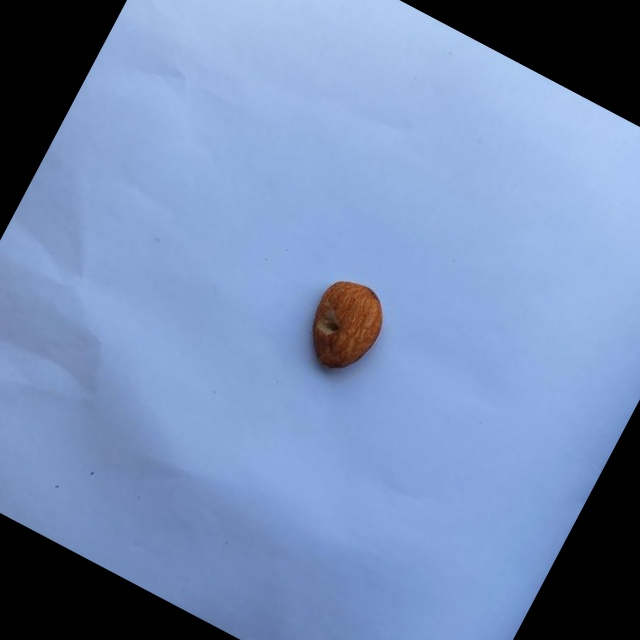grade3: (287, 265, 400, 387)
